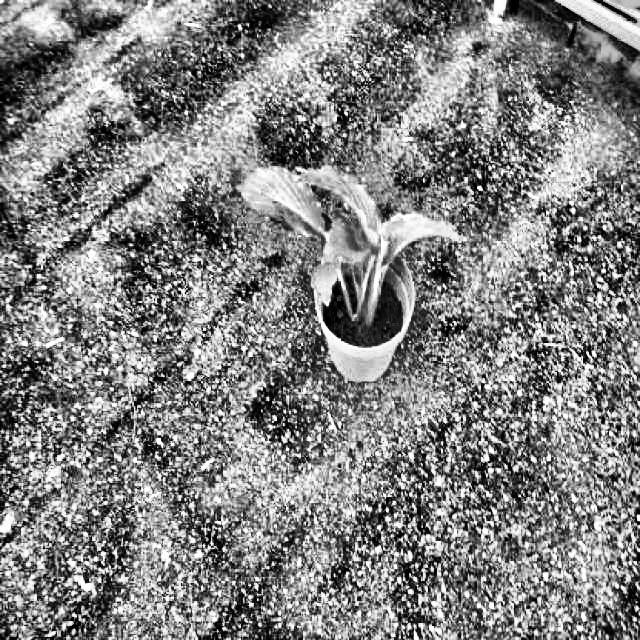plants: (236, 161, 462, 324)
